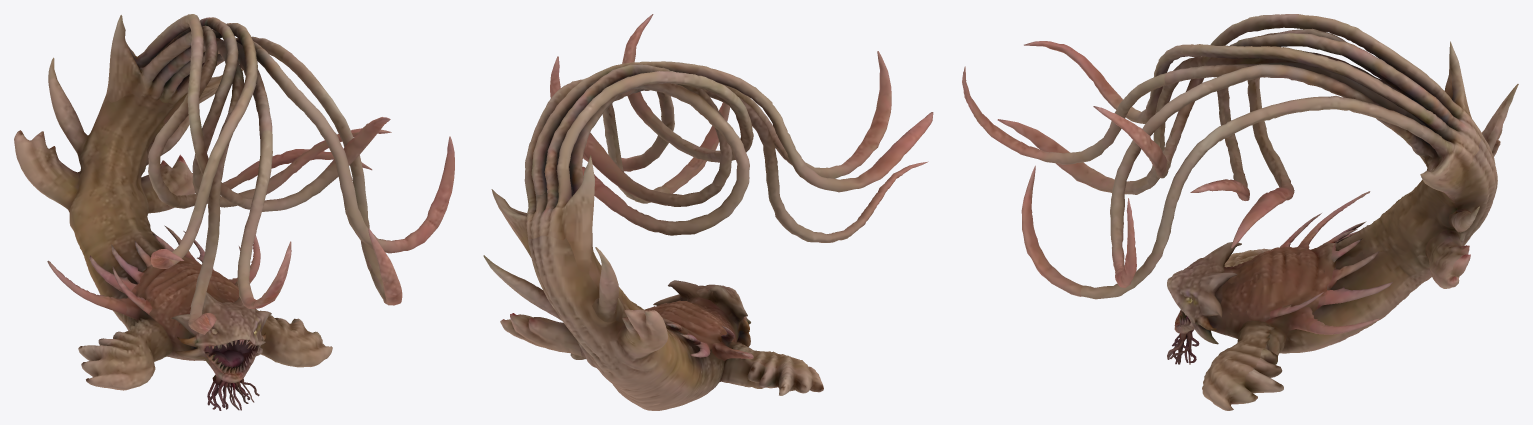
Rendered from MZ4250 - Kraken swimming.glb.
3 views of the same model, side by side, from view 1: azimuth 30°, elevation 25°; view 2: azimuth 150°, elevation 25°; view 3: azimuth 270°, elevation 25° (orthographic). The views are drawn at different scales.
Visible parts, largest first — view 1: ORGANIC BASE SPHERE.001; view 2: ORGANIC BASE SPHERE.001; view 3: ORGANIC BASE SPHERE.001.
Boxes of the visible parts, x1,y1,x2,y2 form: ORGANIC BASE SPHERE.001: (14, 14, 454, 410); ORGANIC BASE SPHERE.001: (483, 14, 933, 410); ORGANIC BASE SPHERE.001: (962, 14, 1518, 410).
Size of the model in its own units: 319 by 307 by 432.
1 material, 1 textured.
